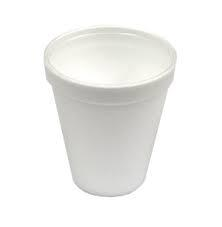Plastic cup: (34, 16, 182, 218)
